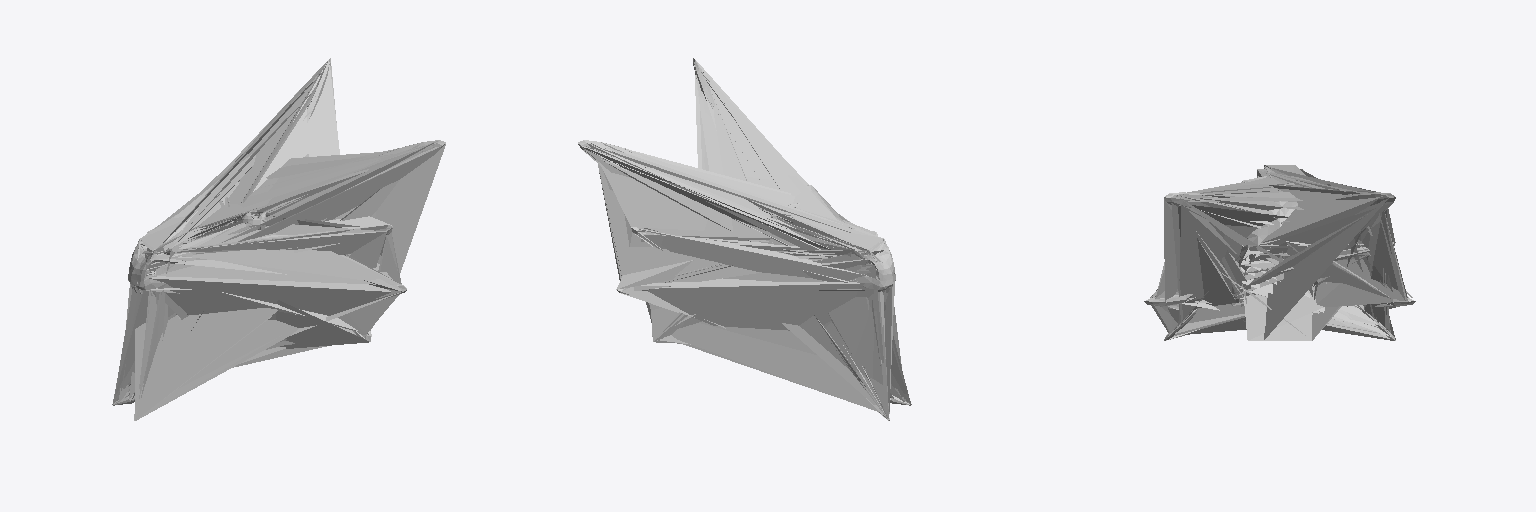
File: cave_ 1.obj
3 renders of one model, left to right at view 1: azimuth 30°, elevation 25°; view 2: azimuth 150°, elevation 25°; view 3: azimuth 270°, elevation 25°, orthographic.
Parts seen in each view (by area): view 1: cave, Object001; view 2: cave, Object001; view 3: cave, Object001.
Boxes of the visible parts, x1,y1,x2,y2 form: cave: [112, 61, 445, 420]; Object001: [113, 58, 445, 405]; cave: [582, 61, 911, 420]; Object001: [578, 58, 910, 419]; cave: [1150, 165, 1412, 340]; Object001: [1144, 166, 1415, 340].
Bounding box in the file's own units: 9.88 × 8.92 × 8.78.